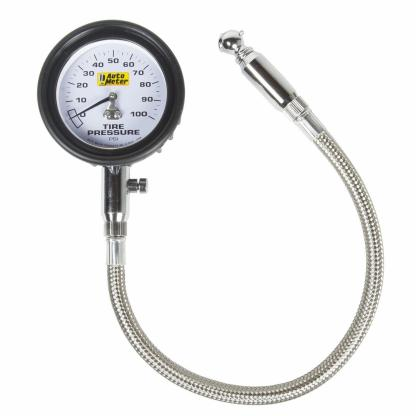needle: (75, 95, 110, 118)
